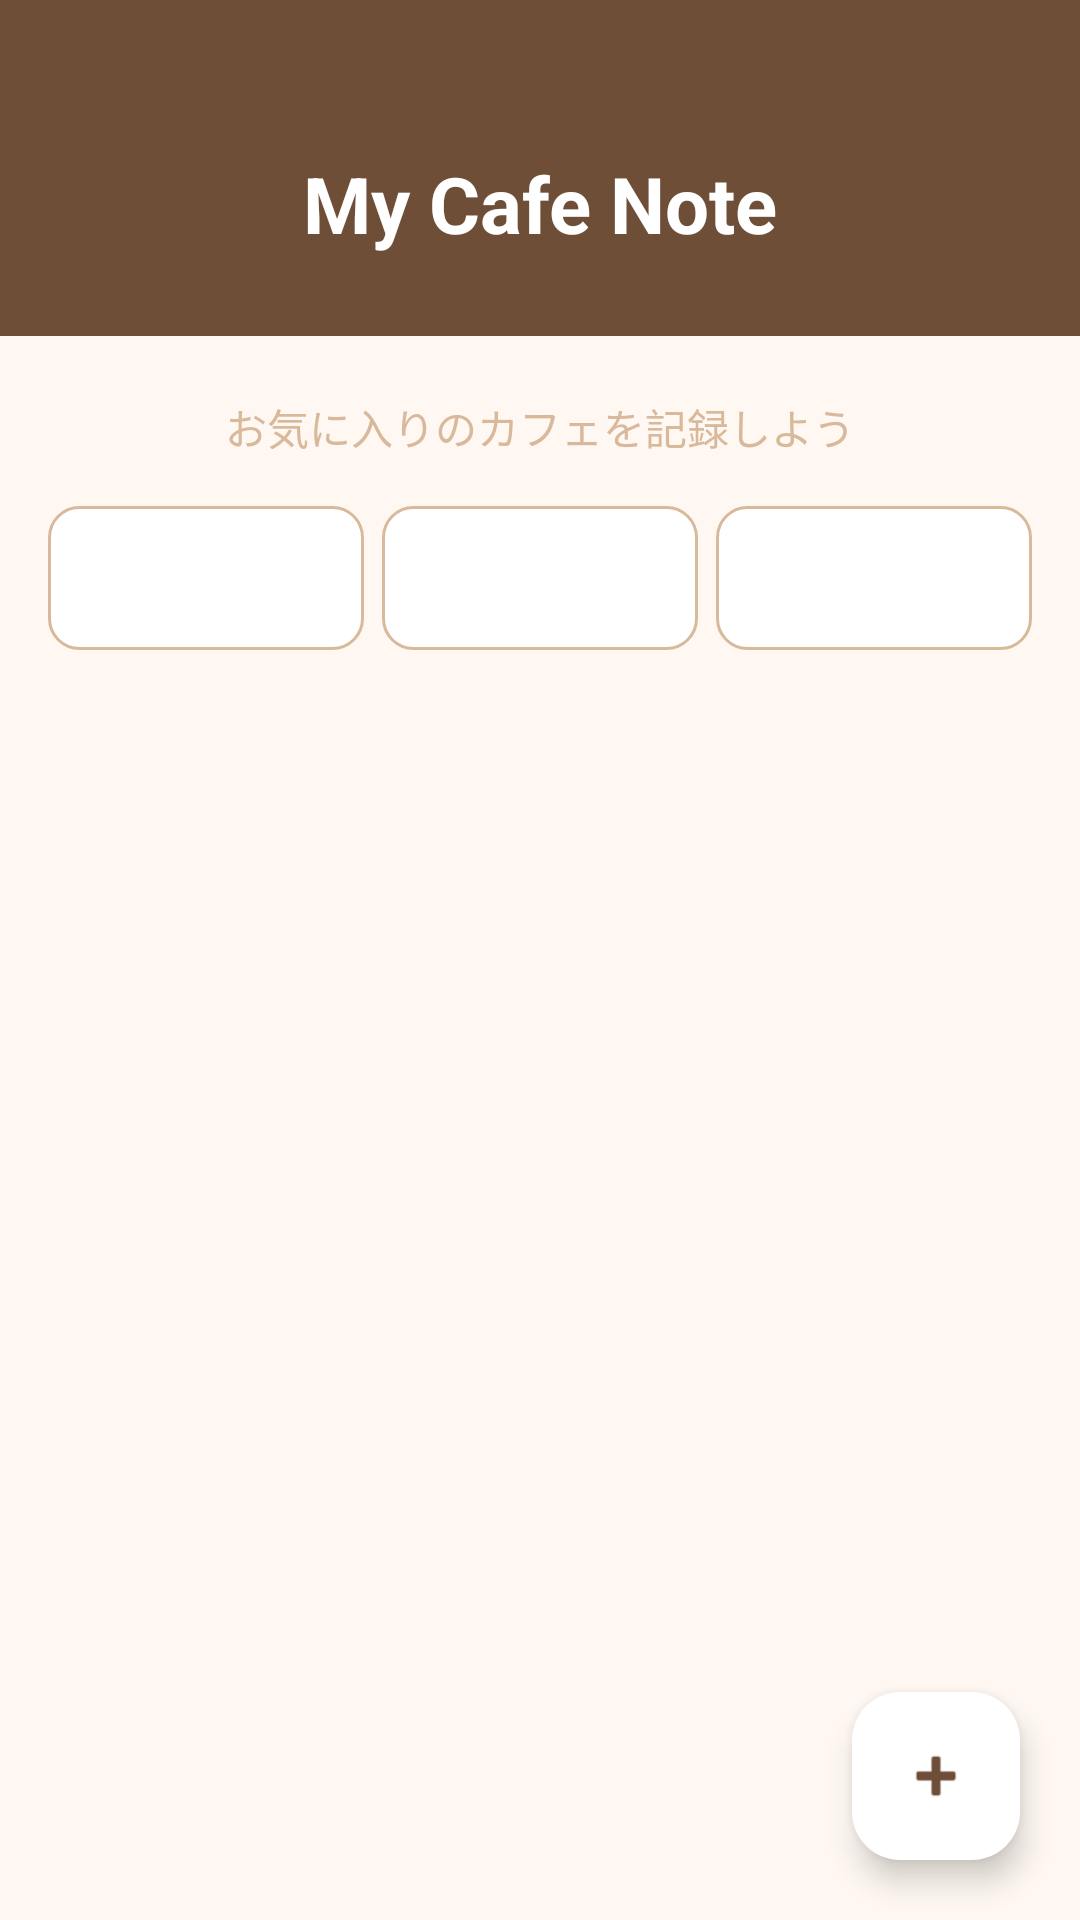

Point at icon controls on the screen. Image size 1080*1920, points as point (x, y).
カフェを追加: point (936, 1776)
